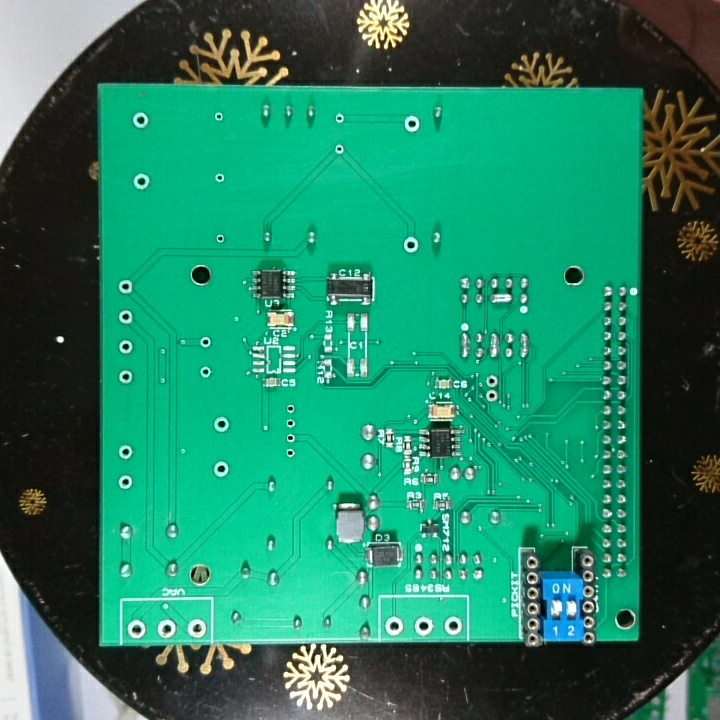F: (382, 614, 409, 637), (184, 616, 208, 640), (130, 169, 152, 195), (155, 615, 177, 641), (442, 613, 465, 637), (413, 613, 438, 635), (399, 233, 421, 257), (129, 110, 153, 132), (126, 617, 150, 639), (115, 441, 137, 464), (114, 277, 137, 298), (210, 413, 231, 436), (402, 112, 422, 134), (211, 460, 233, 480), (116, 306, 135, 329), (117, 366, 134, 390), (481, 387, 501, 405), (116, 337, 135, 355), (117, 471, 134, 491), (197, 333, 214, 353), (281, 444, 299, 462), (331, 140, 348, 158), (282, 398, 299, 416), (212, 229, 230, 246), (482, 373, 502, 388), (331, 109, 348, 126), (282, 429, 299, 446), (211, 109, 227, 126), (212, 169, 228, 186), (197, 363, 213, 380), (282, 415, 299, 431)
P: (486, 289, 514, 307), (487, 329, 501, 363), (459, 331, 473, 363), (517, 331, 529, 363)
